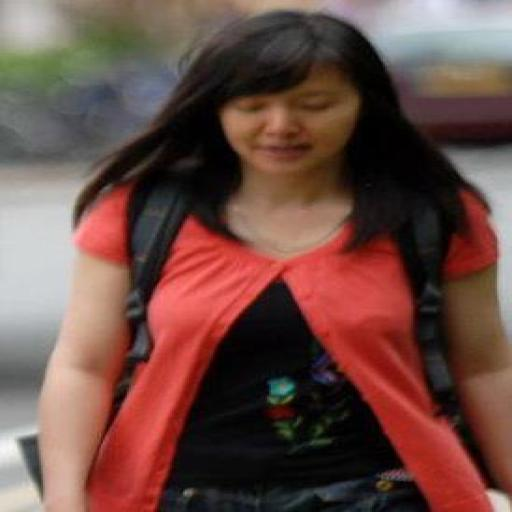person: (40, 11, 511, 511)
